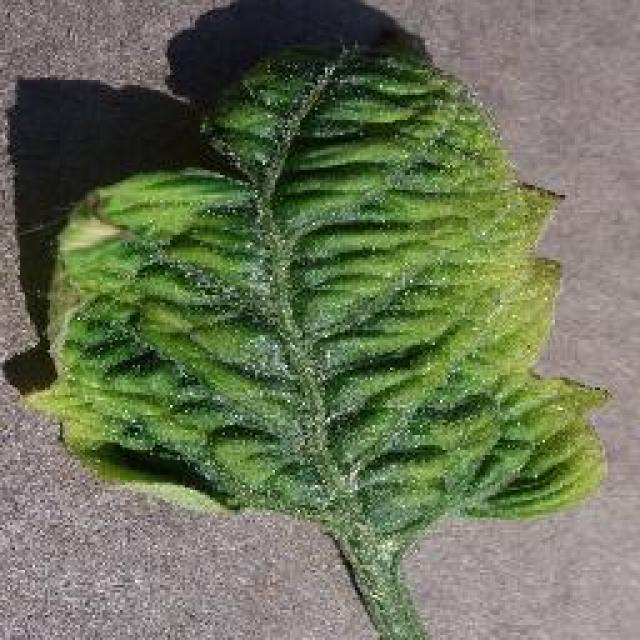Tomato yellow virus leaf: (20, 36, 615, 534)
